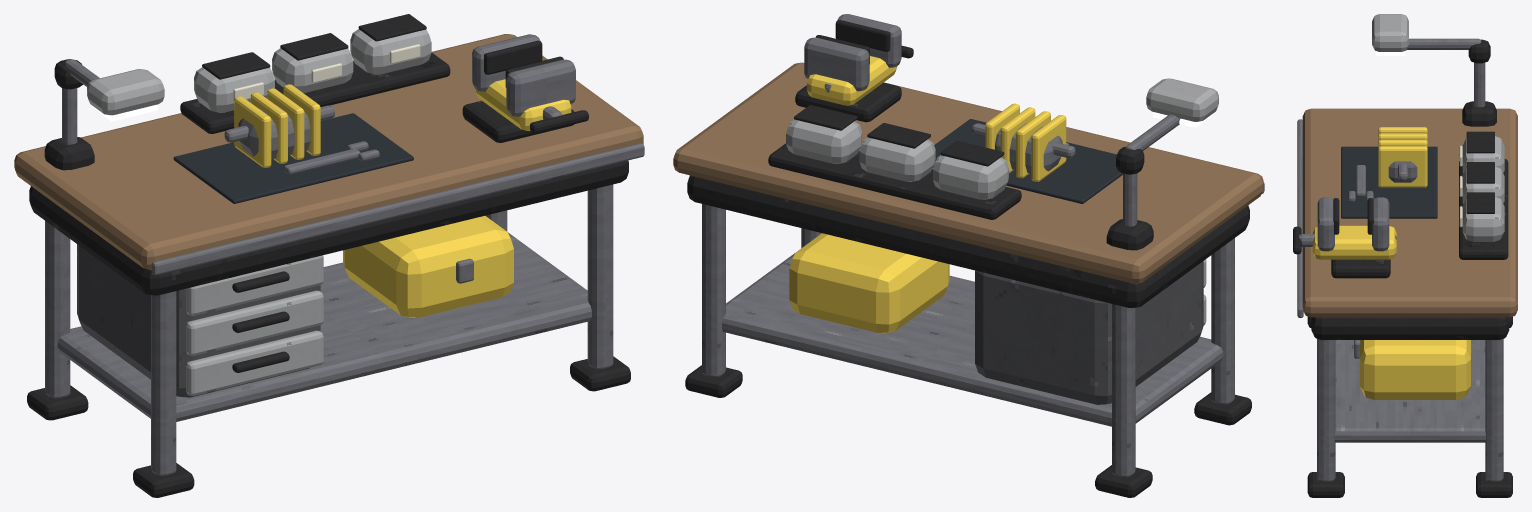
Rendered from decor_eng_parts_workbench.glb.
The picture shows the model from 3 angles, left to right: view 1: azimuth 30°, elevation 25°; view 2: azimuth 150°, elevation 25°; view 3: azimuth 270°, elevation 25°; orthographic projection. The views are drawn at different scales.
Visible parts, largest first — view 1: DEC_EngPartsWorkbench__Timber_Worktop, DEC_EngPartsWorkbench__Lower_Shelf, DEC_EngPartsWorkbench__Steel_Underframe, DEC_EngPartsWorkbench__Lower_Case, DEC_EngPartsWorkbench__Drawer_Pedestal, DEC_EngPartsWorkbench__Service_Mat, DEC_EngPartsWorkbench__Front_Edge_Trim, DEC_EngPartsWorkbench__Leg_0.81_-0.34, DEC_EngPartsWorkbench__Leg_-0.81_-0.34, DEC_EngPartsWorkbench__Drawer_0, DEC_EngPartsWorkbench__Drawer_1, DEC_EngPartsWorkbench__Bin_Rack_Base (+26 smaller); view 2: DEC_EngPartsWorkbench__Timber_Worktop, DEC_EngPartsWorkbench__Lower_Shelf, DEC_EngPartsWorkbench__Drawer_Pedestal, DEC_EngPartsWorkbench__Steel_Underframe, DEC_EngPartsWorkbench__Lower_Case, DEC_EngPartsWorkbench__Bin_Rack_Base, DEC_EngPartsWorkbench__Service_Mat, DEC_EngPartsWorkbench__Leg_-0.81_0.34, DEC_EngPartsWorkbench__Leg_0.81_0.34, DEC_EngPartsWorkbench__Leg_-0.81_-0.34, DEC_EngPartsWorkbench__Bin_1, DEC_EngPartsWorkbench__Bin_2 (+22 smaller); view 3: DEC_EngPartsWorkbench__Timber_Worktop, DEC_EngPartsWorkbench__Lower_Shelf, DEC_EngPartsWorkbench__Lower_Case, DEC_EngPartsWorkbench__Steel_Underframe, DEC_EngPartsWorkbench__Service_Mat, DEC_EngPartsWorkbench__Leg_0.81_0.34, DEC_EngPartsWorkbench__Leg_0.81_-0.34, DEC_EngPartsWorkbench__Vice_Slide, DEC_EngPartsWorkbench__Motor_Winding_3, DEC_EngPartsWorkbench__Bin_Rack_Base, DEC_EngPartsWorkbench__Lamp_Head, DEC_EngPartsWorkbench__Bin_2 (+20 smaller).
Part boxes in pixels (x1=…): DEC_EngPartsWorkbench__Timber_Worktop: x1=14, y1=34, x2=643, y2=269; DEC_EngPartsWorkbench__Lower_Shelf: x1=57, y1=232, x2=591, y2=421; DEC_EngPartsWorkbench__Steel_Underframe: x1=29, y1=160, x2=628, y2=295; DEC_EngPartsWorkbench__Lower_Case: x1=343, y1=216, x2=513, y2=317; DEC_EngPartsWorkbench__Drawer_Pedestal: x1=77, y1=244, x2=320, y2=397; DEC_EngPartsWorkbench__Service_Mat: x1=173, y1=113, x2=413, y2=203; DEC_EngPartsWorkbench__Front_Edge_Trim: x1=152, y1=143, x2=644, y2=275; DEC_EngPartsWorkbench__Leg_0.81_-0.34: x1=587, y1=184, x2=613, y2=369; DEC_EngPartsWorkbench__Leg_-0.81_-0.34: x1=151, y1=291, x2=176, y2=475; DEC_EngPartsWorkbench__Drawer_0: x1=186, y1=330, x2=323, y2=395; DEC_EngPartsWorkbench__Drawer_1: x1=186, y1=290, x2=323, y2=355; DEC_EngPartsWorkbench__Bin_Rack_Base: x1=180, y1=52, x2=450, y2=133; DEC_EngPartsWorkbench__Timber_Worktop: x1=673, y1=62, x2=1263, y2=283; DEC_EngPartsWorkbench__Lower_Shelf: x1=722, y1=253, x2=1223, y2=426; DEC_EngPartsWorkbench__Drawer_Pedestal: x1=975, y1=261, x2=1203, y2=404; DEC_EngPartsWorkbench__Steel_Underframe: x1=687, y1=175, x2=1249, y2=307; DEC_EngPartsWorkbench__Lower_Case: x1=789, y1=233, x2=949, y2=333; DEC_EngPartsWorkbench__Bin_Rack_Base: x1=768, y1=143, x2=1021, y2=219; DEC_EngPartsWorkbench__Service_Mat: x1=933, y1=119, x2=1122, y2=203; DEC_EngPartsWorkbench__Leg_-0.81_0.34: x1=1112, y1=304, x2=1135, y2=477; DEC_EngPartsWorkbench__Leg_0.81_0.34: x1=702, y1=204, x2=725, y2=377; DEC_EngPartsWorkbench__Leg_-0.81_-0.34: x1=1211, y1=238, x2=1234, y2=404; DEC_EngPartsWorkbench__Bin_1: x1=859, y1=137, x2=935, y2=181; DEC_EngPartsWorkbench__Bin_2: x1=786, y1=119, x2=862, y2=163; DEC_EngPartsWorkbench__Timber_Worktop: x1=1302, y1=108, x2=1517, y2=317; DEC_EngPartsWorkbench__Lower_Shelf: x1=1334, y1=340, x2=1485, y2=442; DEC_EngPartsWorkbench__Lower_Case: x1=1359, y1=340, x2=1470, y2=399; DEC_EngPartsWorkbench__Steel_Underframe: x1=1311, y1=317, x2=1509, y2=339; DEC_EngPartsWorkbench__Service_Mat: x1=1341, y1=146, x2=1437, y2=218; DEC_EngPartsWorkbench__Leg_0.81_0.34: x1=1485, y1=339, x2=1503, y2=481; DEC_EngPartsWorkbench__Leg_0.81_-0.34: x1=1317, y1=338, x2=1335, y2=481; DEC_EngPartsWorkbench__Vice_Slide: x1=1312, y1=225, x2=1396, y2=259; DEC_EngPartsWorkbench__Motor_Winding_3: x1=1378, y1=146, x2=1427, y2=187; DEC_EngPartsWorkbench__Bin_Rack_Base: x1=1459, y1=159, x2=1508, y2=259; DEC_EngPartsWorkbench__Lamp_Head: x1=1372, y1=14, x2=1408, y2=51; DEC_EngPartsWorkbench__Bin_2: x1=1462, y1=196, x2=1504, y2=241.
Bounding box in the file's own units: 1.86 × 1.34 × 0.9095.
Materials: 9 (4 with a texture image).
